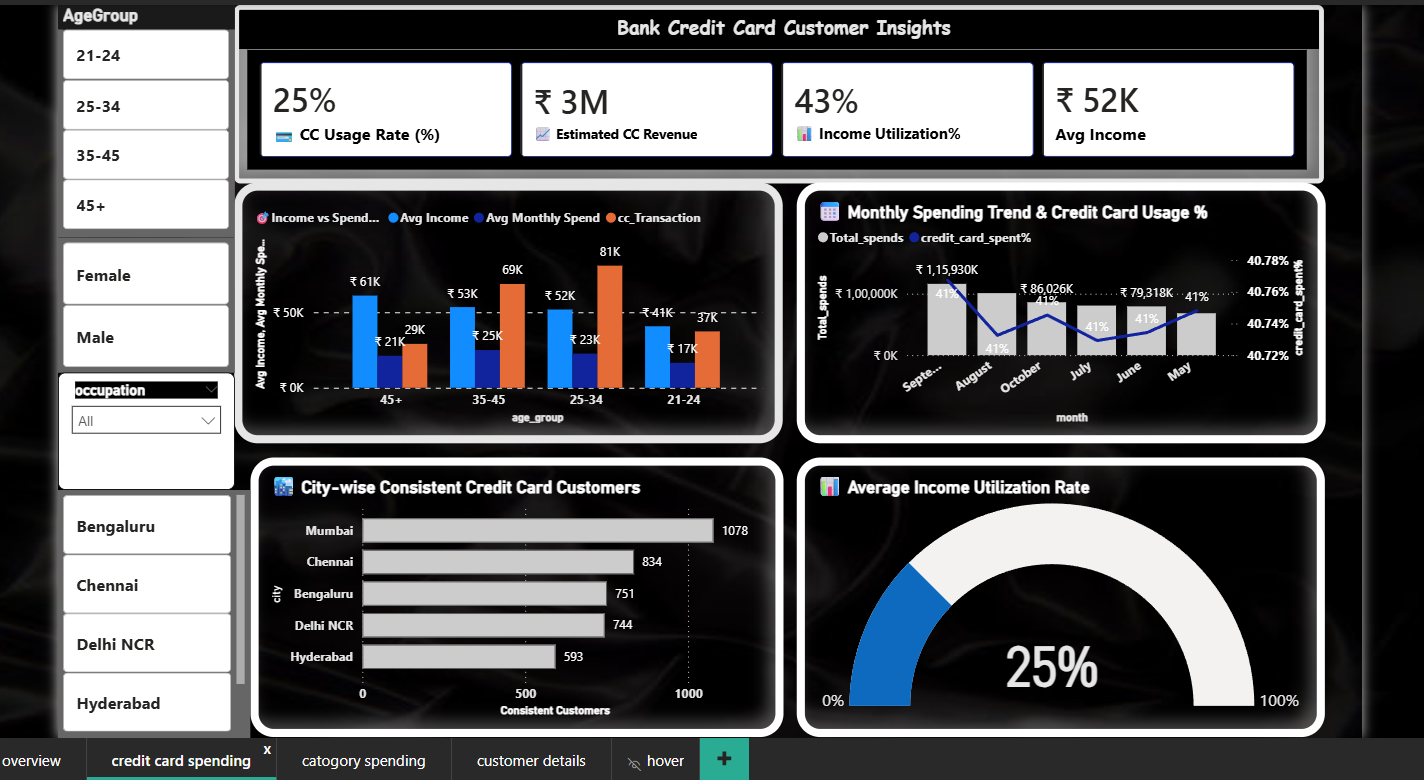

What the dashboard file says about the page in this screenshot:
{"tool":"powerbi","page":{"name":"credit card spending","canvas":[1280,720],"ordinal":1},"visuals":[{"type":"cardVisual","title":"Bank Credit Card Customer Insights","fields":{"Data":["_All_Measure.CC Usage %","_All_Measure.Estimated CC Revenue","_All_Measure.Avg_income utilization","_All_Measure.Avg Income"]},"box":[173.5,0,1069.5,175.2],"z":0},{"type":"clusteredBarChart","title":"🏙️ City-wise Consistent Credit Card Customers","fields":{"Y":["_All_Measure.Consistent Customers"],"Category":["dim_customers.city"]},"box":[188.8,444.8,522.8,274.7],"z":1000},{"type":"clusteredColumnChart","fields":{"Y":["_All_Measure.Avg Income","_All_Measure.Avg Monthly Spend","_All_Measure.cc_Transaction"],"Category":["dim_customers.age_group"]},"box":[173,174.6,538.1,256.3],"z":2000},{"type":"lineClusteredColumnComboChart","title":"📅 Monthly Spending Trend & Credit Card Usage %","fields":{"Category":["fact_spends.month"],"Y2":["_All_Measure.credit_card_spent%"],"Y":["_All_Measure.Total_spends"]},"box":[725.5,174.6,518.9,256.3],"z":3000},{"type":"gauge","title":"📊 Average Income Utilization Rate","fields":{"Y":["_All_Measure.CC Usage %"]},"box":[725.7,444.8,518.1,274.7],"z":4000},{"type":"advancedSlicerVisual","fields":{"Values":["dim_customers.age_group"]},"box":[0,0,173.2,227.8],"z":5000},{"type":"advancedSlicerVisual","fields":{"Values":["dim_customers.gender"]},"box":[0,227.8,173.2,132.7],"z":6000},{"type":"slicer","fields":{"Values":["dim_customers.occupation"]},"box":[0,360.4,173.5,115.1],"z":7000},{"type":"advancedSlicerVisual","fields":{"Values":["dim_customers.city"]},"box":[0,475.5,188.5,245.3],"z":8000}]}

Visuals, with their boxes on the page's 1280x720 design canvas (x1, y1, x2, y2). These are canvas units, not pixel positions in the 1424x780 screenshot, which may show the page scaled, cropped or inside an application window:
"Bank Credit Card Customer Insights" cardVisual: locate(174, 0, 1243, 175)
"🏙️ City-wise Consistent Credit Card Customers" clusteredBarChart: locate(189, 445, 712, 720)
clusteredColumnChart - _All_Measure.Avg Income x _All_Measure.Avg Monthly Spend: locate(173, 175, 711, 431)
"📅 Monthly Spending Trend & Credit Card Usage %" lineClusteredColumnComboChart: locate(726, 175, 1244, 431)
"📊 Average Income Utilization Rate" gauge: locate(726, 445, 1244, 720)
advancedSlicerVisual - dim_customers.age_group: locate(0, 0, 173, 228)
advancedSlicerVisual - dim_customers.gender: locate(0, 228, 173, 360)
slicer - dim_customers.occupation: locate(0, 360, 174, 476)
advancedSlicerVisual - dim_customers.city: locate(0, 476, 188, 721)
